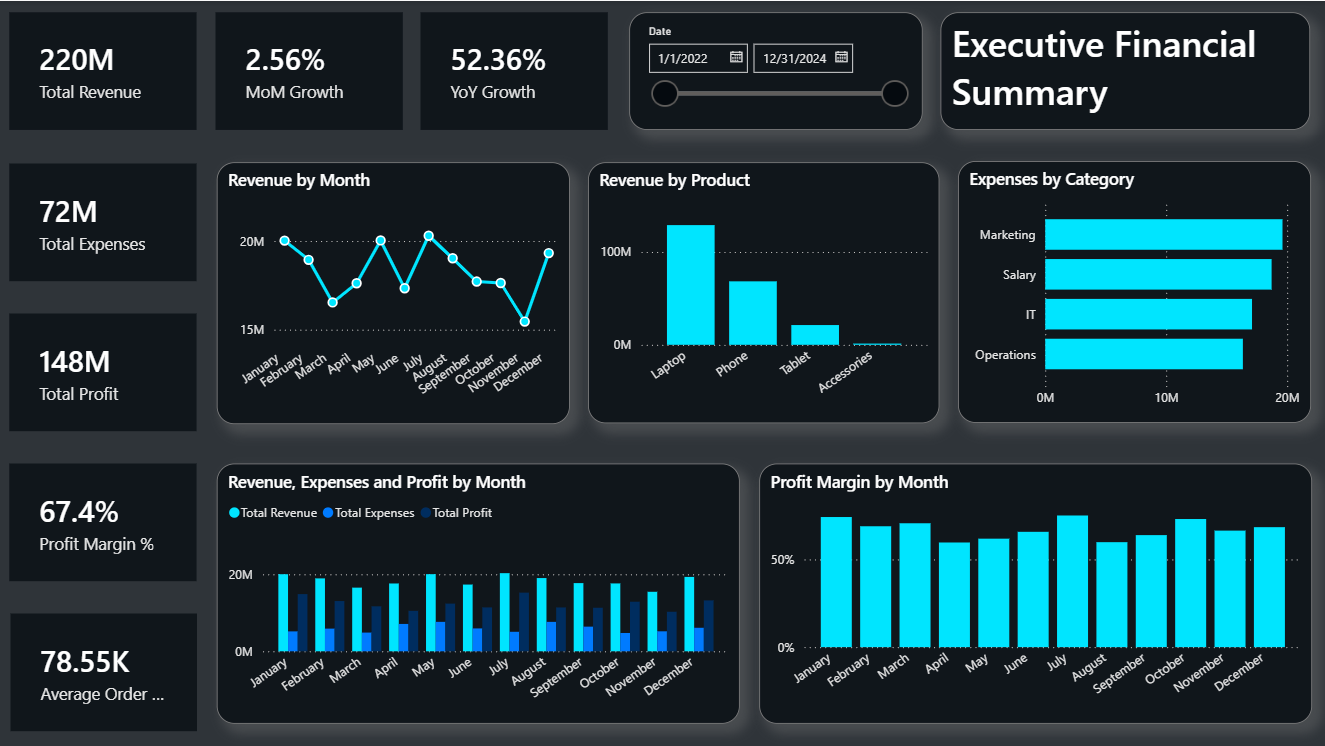

Layout of this report page (visuals, bound fields, positions):
{"tool":"powerbi","page":{"name":"Executive Overview","canvas":[1280,720],"ordinal":0},"visuals":[{"type":"cardVisual","fields":{"Data":["Measure_tbl.Total Revenue"]},"box":[11.4,11.4,180.6,113.8],"z":0},{"type":"cardVisual","fields":{"Data":["Measure_tbl.Total Expenses"]},"box":[11.4,156.4,180.6,113.8],"z":1000},{"type":"cardVisual","fields":{"Data":["Measure_tbl.Total Profit"]},"box":[11.4,301.5,180.6,113.8],"z":2000},{"type":"cardVisual","fields":{"Data":["Measure_tbl.Profit Margin %"]},"box":[11.4,446.5,180.6,113.8],"z":3000},{"type":"cardVisual","fields":{"Data":["Measure_tbl.Average Order Value"]},"box":[11.5,591.5,180.3,114],"z":4000},{"type":"cardVisual","fields":{"Data":["Measure_tbl.MoM Growth"]},"box":[210.5,11.4,180.6,113.8],"z":5000},{"type":"cardVisual","fields":{"Data":["Measure_tbl.YoY Growth"]},"box":[408.2,11.4,180.6,113.8],"z":6000},{"type":"slicer","fields":{"Values":["Date.Date"]},"box":[608.7,11.4,283,113.8],"z":7000},{"type":"lineChart","title":"Revenue by Month","fields":{"Y":["Measure_tbl.Total Revenue"],"Category":["Date.Date.Variation.Date Hierarchy.Month"]},"box":[210.6,155.8,340.5,252.5],"z":8000},{"type":"columnChart","title":"Revenue by Product","fields":{"Category":["Sales.Product"],"Y":["Measure_tbl.Total Revenue"]},"box":[569.9,155.8,339,252],"z":9000},{"type":"barChart","title":"Expenses by Category","fields":{"Category":["Expense.Category"],"Y":["Measure_tbl.Total Expenses"]},"box":[926.3,154.4,340.5,252.5],"z":10000},{"type":"clusteredColumnChart","title":"Revenue, Expenses and Profit by Month","fields":{"Y":["Measure_tbl.Total Revenue","Measure_tbl.Total Expenses","Measure_tbl.Total Profit"],"Category":["Date.Date.Variation.Date Hierarchy.Month"]},"box":[210.6,445.8,505,251],"z":11000},{"type":"columnChart","title":"Profit Margin by Month","fields":{"Category":["Date.Date.Variation.Date Hierarchy.Month"],"Y":["Measure_tbl.Profit Margin %"]},"box":[734.4,445.8,533.8,251],"z":12000},{"type":"textbox","title":"Executive Financial Summary","box":[909.5,10.7,357.7,113.9],"z":13000}]}

Visuals, with their boxes in screenshot pixels (x1, y1, x2, y2), scaled from the page's 1280x720 canvas onto the 1325x746 screenshot:
cardVisual - Measure_tbl.Total Revenue: select_region(12, 12, 199, 130)
cardVisual - Measure_tbl.Total Expenses: select_region(12, 162, 199, 280)
cardVisual - Measure_tbl.Total Profit: select_region(12, 312, 199, 430)
cardVisual - Measure_tbl.Profit Margin %: select_region(12, 463, 199, 581)
cardVisual - Measure_tbl.Average Order Value: select_region(12, 613, 199, 731)
cardVisual - Measure_tbl.MoM Growth: select_region(218, 12, 405, 130)
cardVisual - Measure_tbl.YoY Growth: select_region(423, 12, 610, 130)
slicer - Date.Date: select_region(630, 12, 923, 130)
"Revenue by Month" lineChart: select_region(218, 161, 570, 423)
"Revenue by Product" columnChart: select_region(590, 161, 941, 423)
"Expenses by Category" barChart: select_region(959, 160, 1311, 422)
"Revenue, Expenses and Profit by Month" clusteredColumnChart: select_region(218, 462, 741, 722)
"Profit Margin by Month" columnChart: select_region(760, 462, 1313, 722)
"Executive Financial Summary" textbox: select_region(941, 11, 1312, 129)
